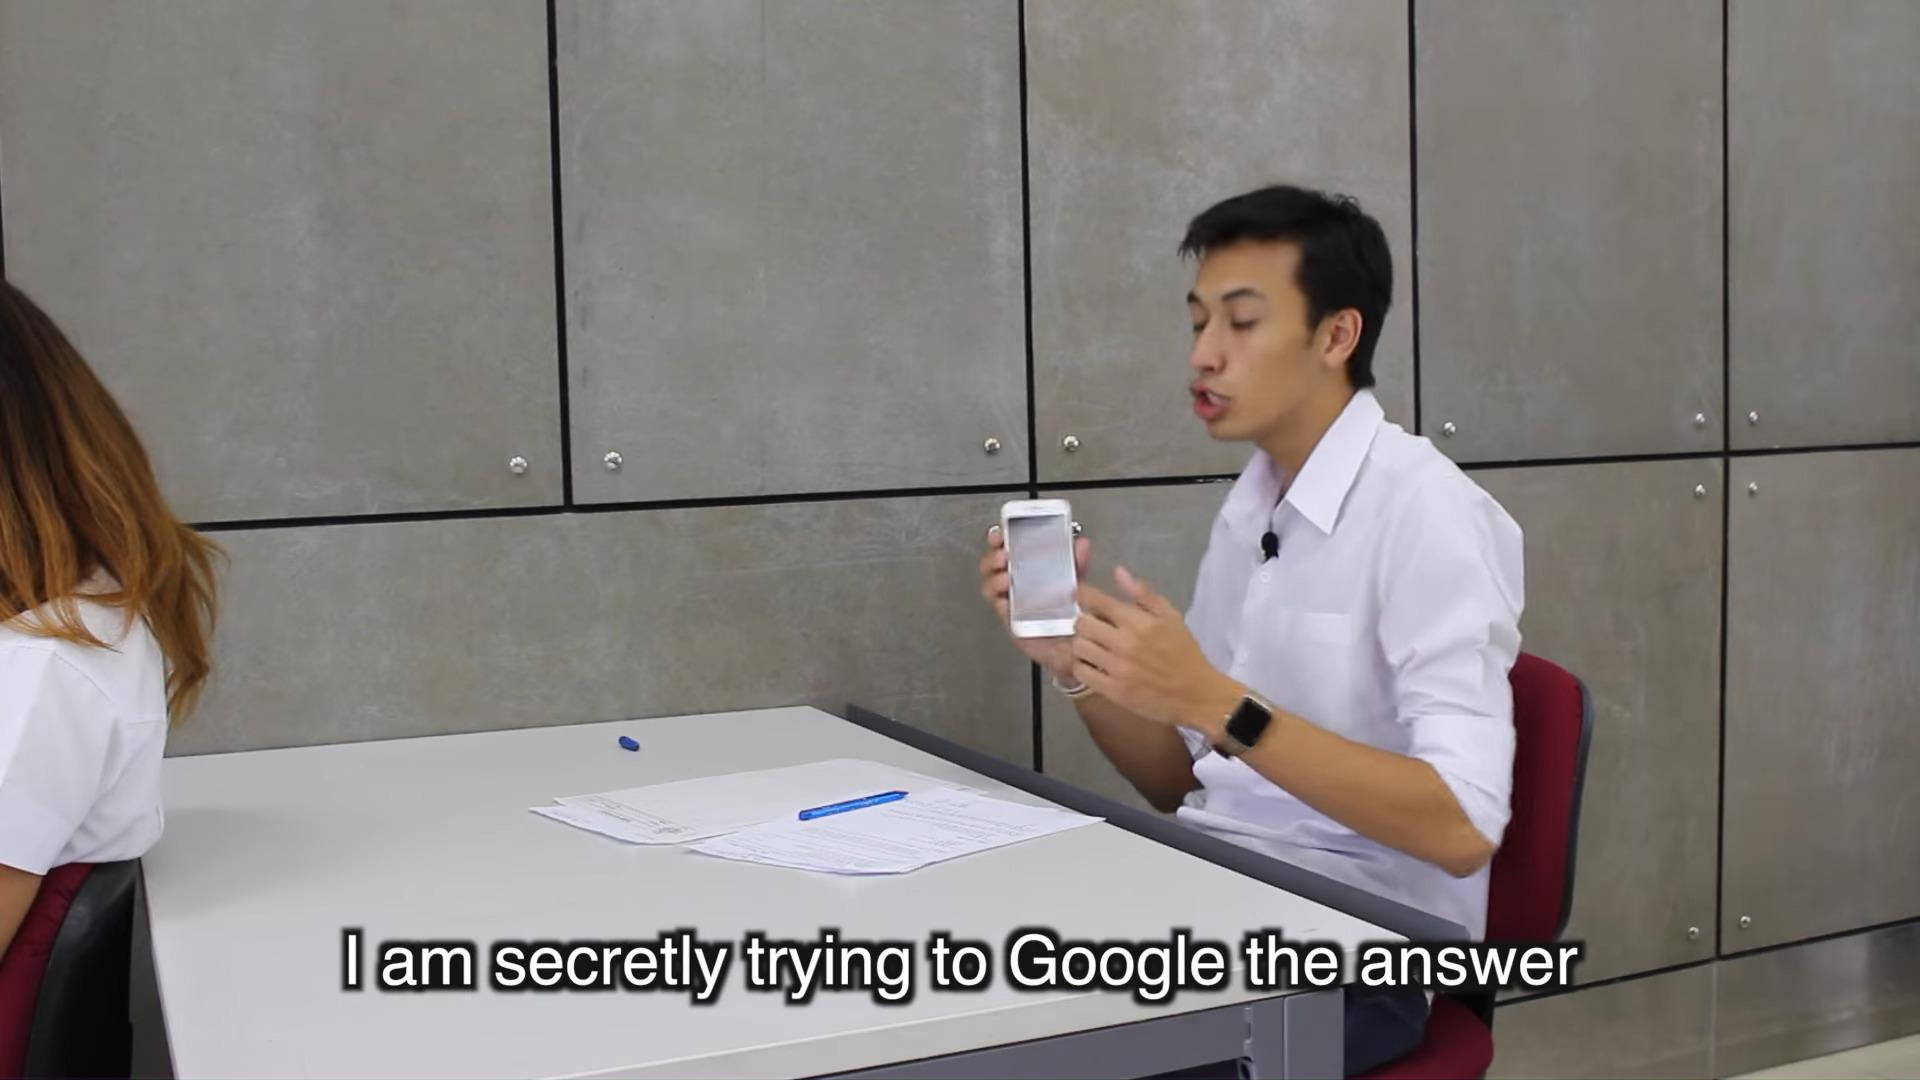cheating: (508, 166, 1563, 915)
